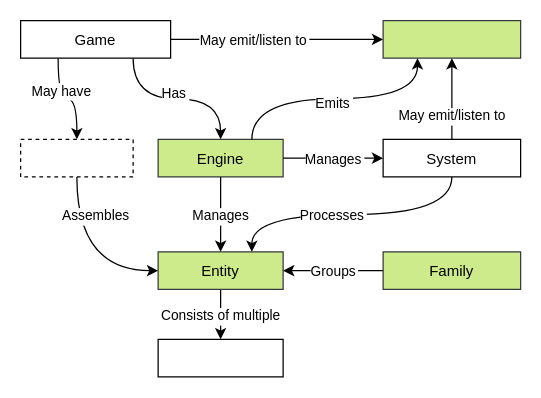
Some shapes in this 541 by 398 pixel diagram are drawn without their labels. The centre of each missing label's shape, as x and y in pixels:
"Component" goes at (x=220, y=357).
"EntityFactory" goes at (x=76, y=157).
"Signal" goes at (x=451, y=38).
